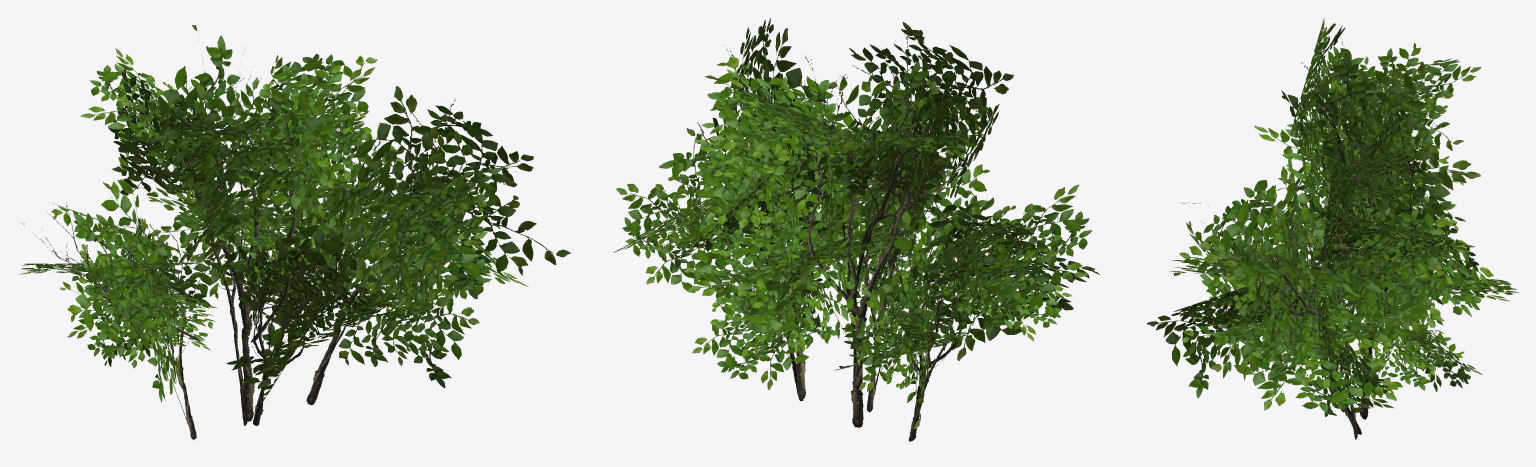
Rendered from Bushes.fbx.
3 renders of one model, left to right at view 1: azimuth 30°, elevation 25°; view 2: azimuth 150°, elevation 25°; view 3: azimuth 270°, elevation 25°, orthographic. The views are drawn at different scales.
Visible parts, largest first — view 1: Bushes_02; view 2: Bushes_02; view 3: Bushes_02.
Part boxes in pixels (box(x1,y1,x2,y2)): Bushes_02: box(18, 25, 571, 439); Bushes_02: box(613, 18, 1099, 441); Bushes_02: box(1147, 18, 1518, 439).
Bounding box in the file's own units: 161 × 136 × 118.
